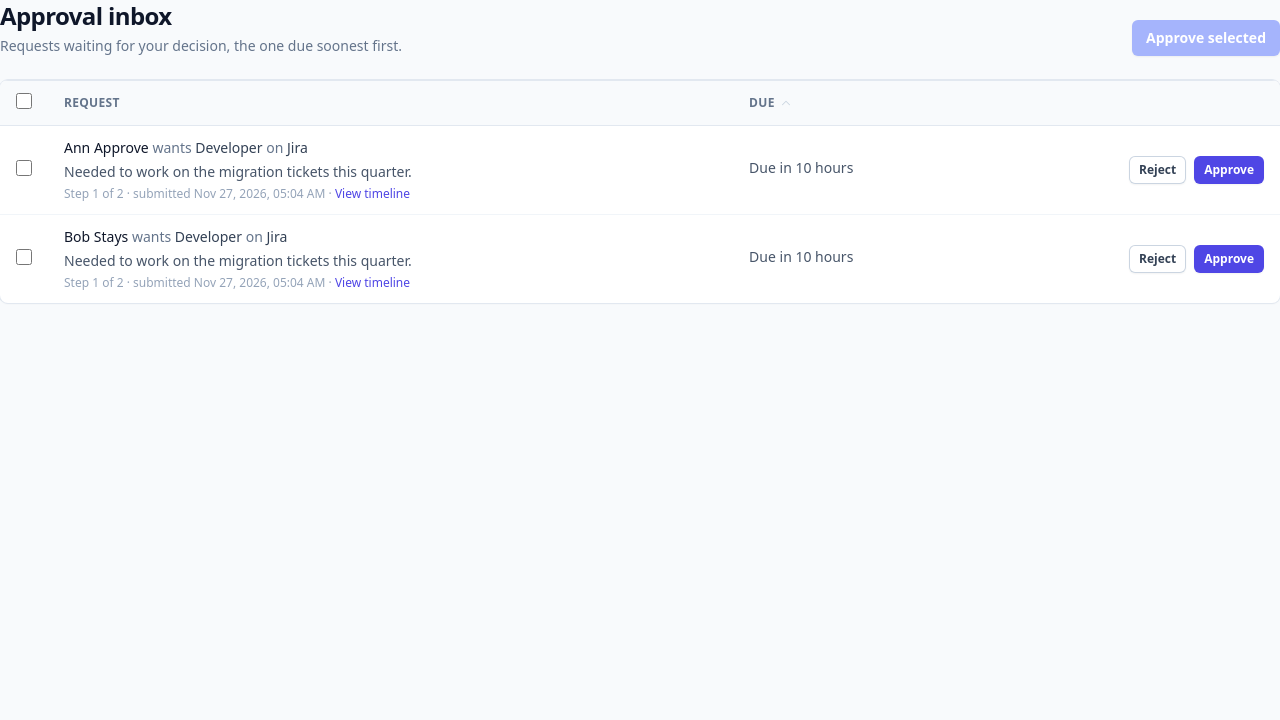
Approval inbox › approving removes the row immediately (optimistic) and confirms with a toast
Click the button with aria-label "Approve request from Ann Approve" at [1229, 170], box x1=1194 y1=156 x2=1264 y2=184
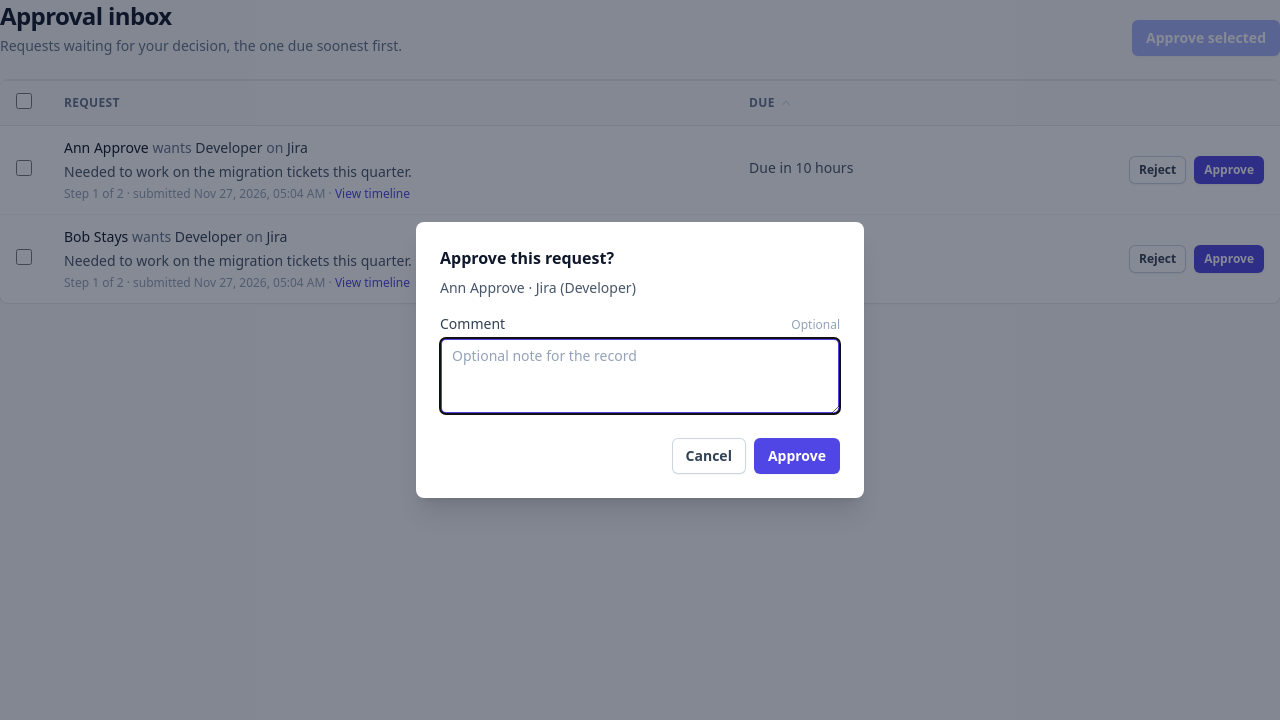
Type "Looks fine" into the text box labelled "Comment Optional" at [640, 376], box x1=440 y1=338 x2=840 y2=414
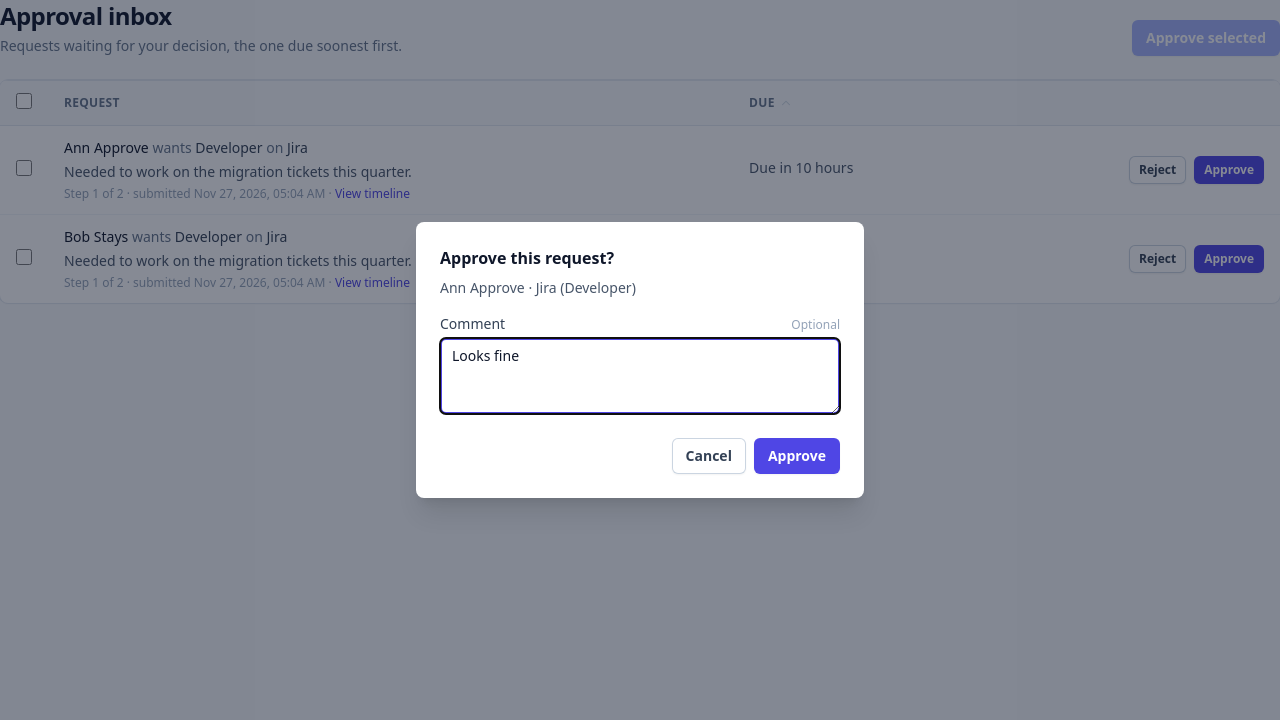
Click the button "Approve" at [797, 456], box x1=754 y1=438 x2=840 y2=474
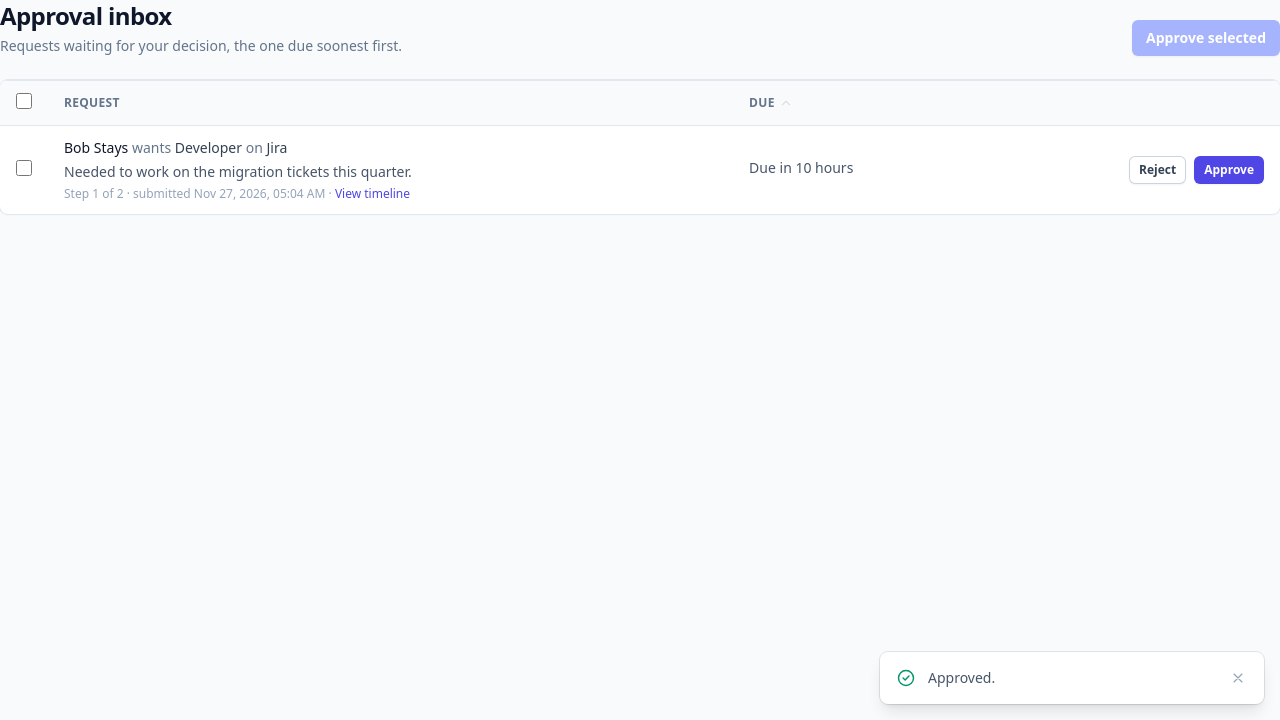
Expected: the text "Bob Stays" is shown, x1=64 y1=138 x2=128 y2=157
Now the message reads "Approved.", box x1=928 y1=668 x2=995 y2=687
Now the text "Ann Approve" is gone
